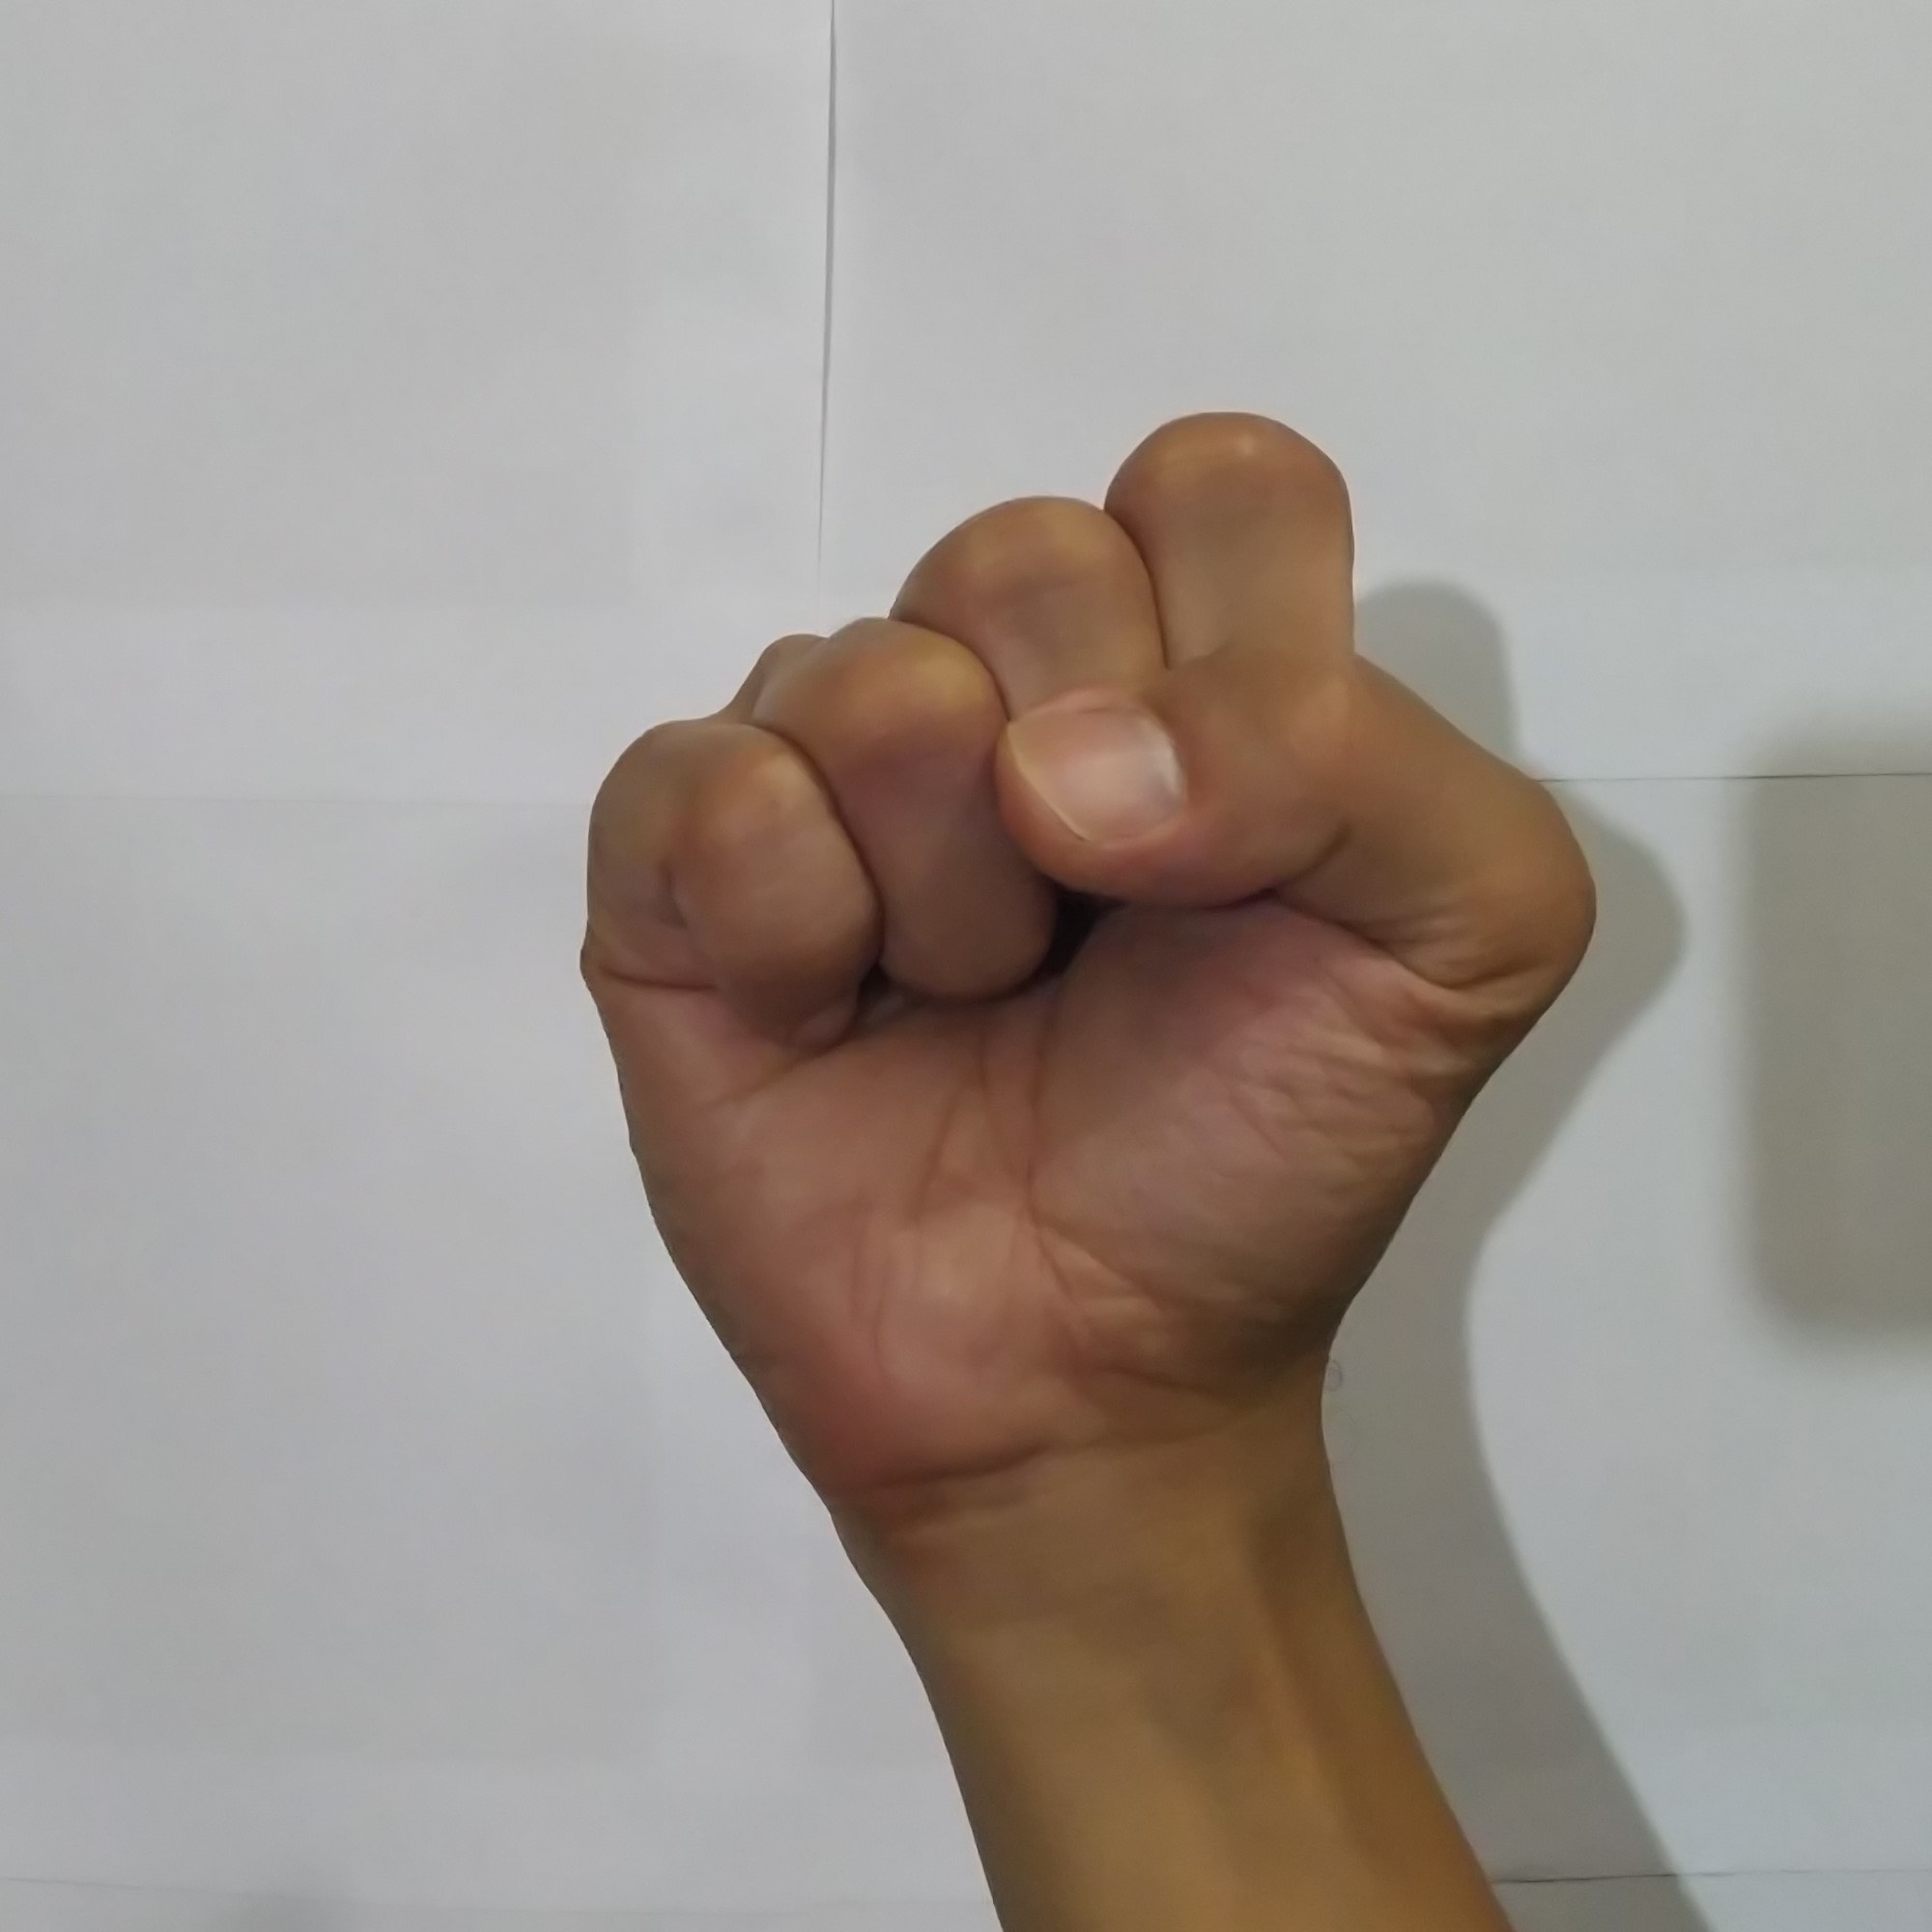S: (548, 384, 1622, 1445)
